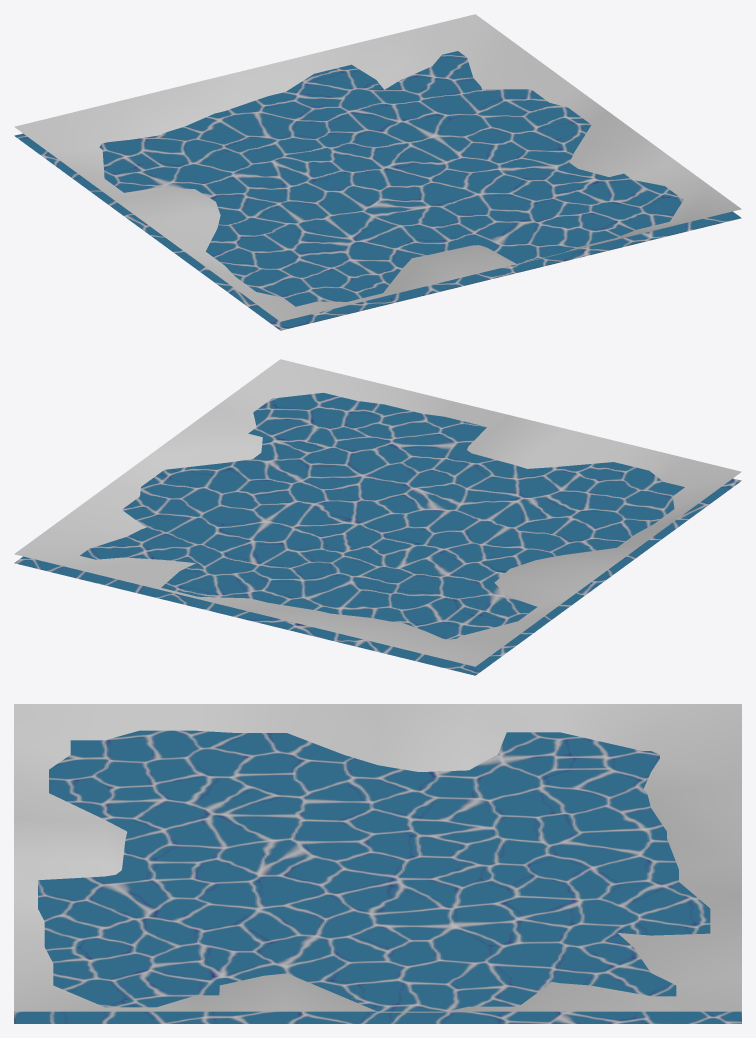
Rendered from SingleWaterTile.fbx.
3 views of the same model, one above another, from view 1: azimuth 30°, elevation 25°; view 2: azimuth 150°, elevation 25°; view 3: azimuth 270°, elevation 25° (orthographic). The views are drawn at different scales.
Visible parts, largest first — view 1: WaterHole_Single; view 2: WaterHole_Single; view 3: WaterHole_Single.
Boxes of the visible parts, x1=… form: WaterHole_Single: x1=14, y1=14, x2=741, y2=330; WaterHole_Single: x1=14, y1=359, x2=741, y2=675; WaterHole_Single: x1=14, y1=704, x2=741, y2=1023.
Size of the model in its own units: 100 by 15.51 by 100.
